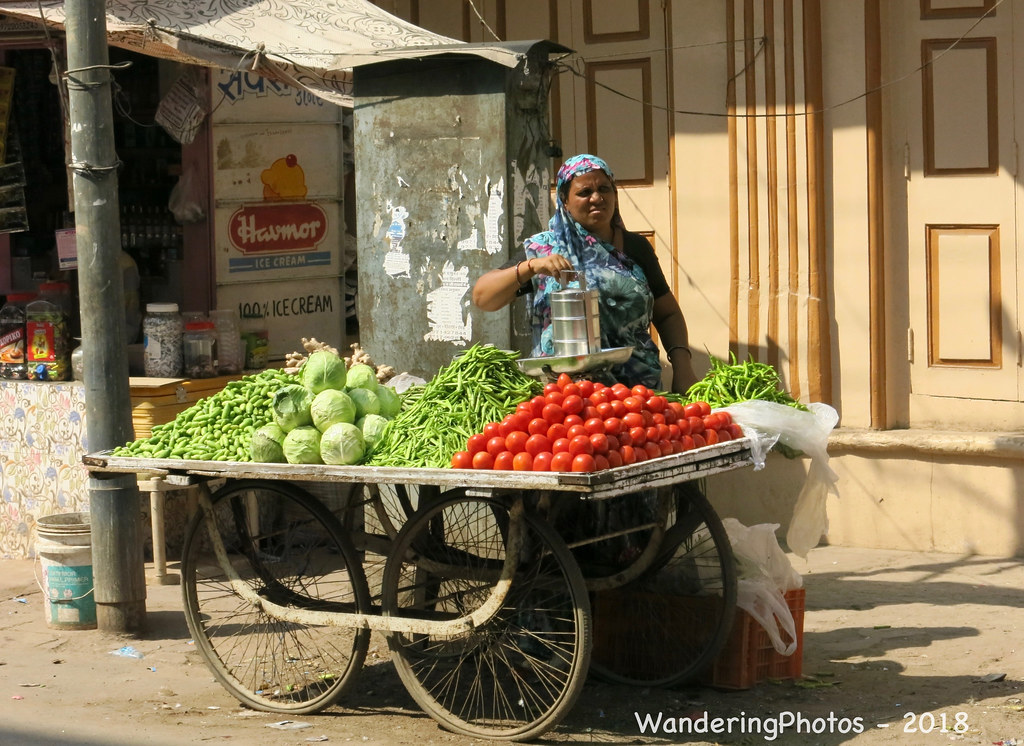cart: (96, 339, 756, 694)
person: (472, 150, 699, 346)
pole: (60, 1, 148, 636)
